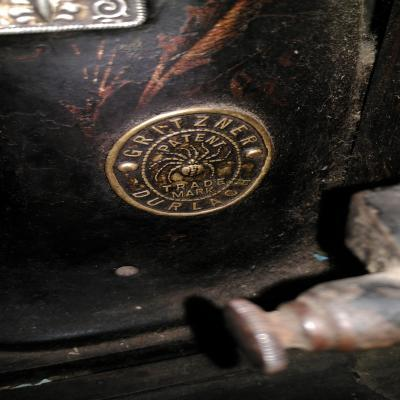technique: (104, 106, 275, 220)
